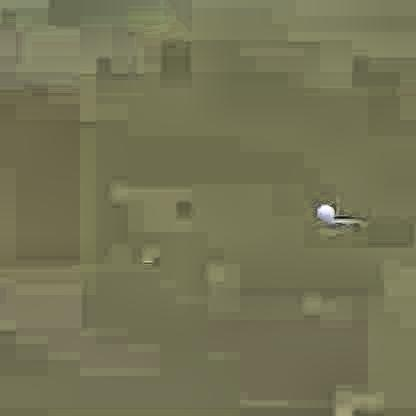golfball: (315, 201, 333, 218)
